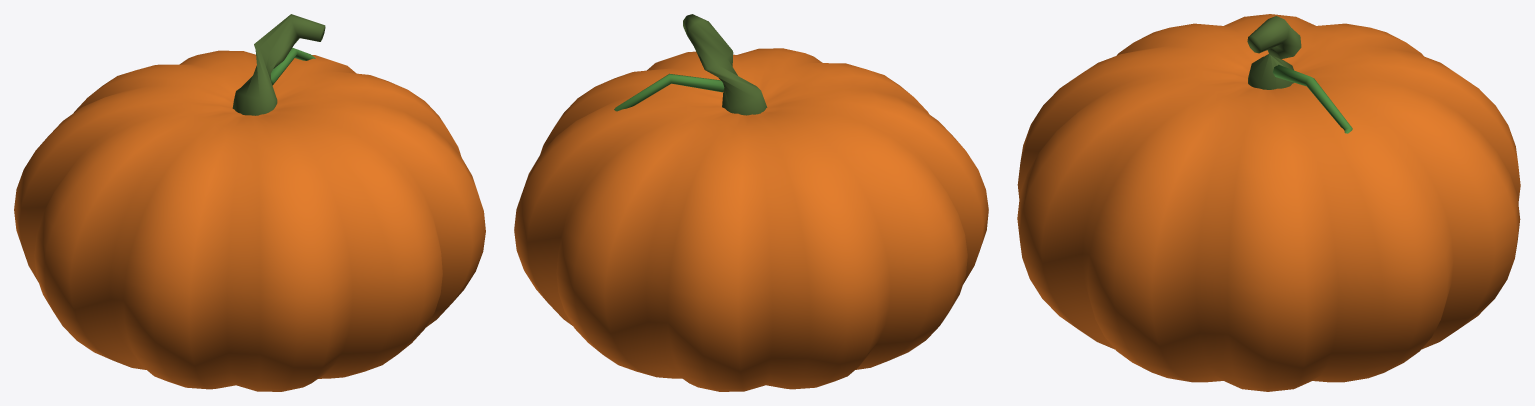
The model's file is prop_pumpkin.glb.
3 renders of one model, left to right at view 1: azimuth 30°, elevation 25°; view 2: azimuth 150°, elevation 25°; view 3: azimuth 270°, elevation 25°, orthographic. The views are drawn at different scales.
Visible parts, largest first — view 1: prop_pumpkin; view 2: prop_pumpkin; view 3: prop_pumpkin.
Boxes of the visible parts, x1,y1,x2,y2 form: prop_pumpkin: (14, 14, 485, 391); prop_pumpkin: (514, 14, 988, 391); prop_pumpkin: (1017, 14, 1520, 391).
Size of the model in its own units: 0.9771 by 0.72 by 0.9397.
